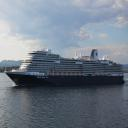cruises: (4, 45, 126, 88)
